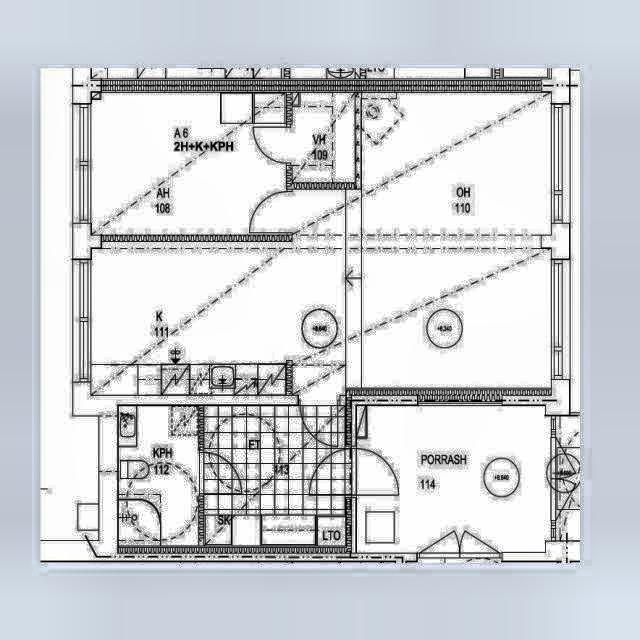room: (356, 403, 552, 554), (91, 90, 287, 234), (204, 405, 345, 545), (119, 405, 199, 545), (292, 94, 355, 182)
